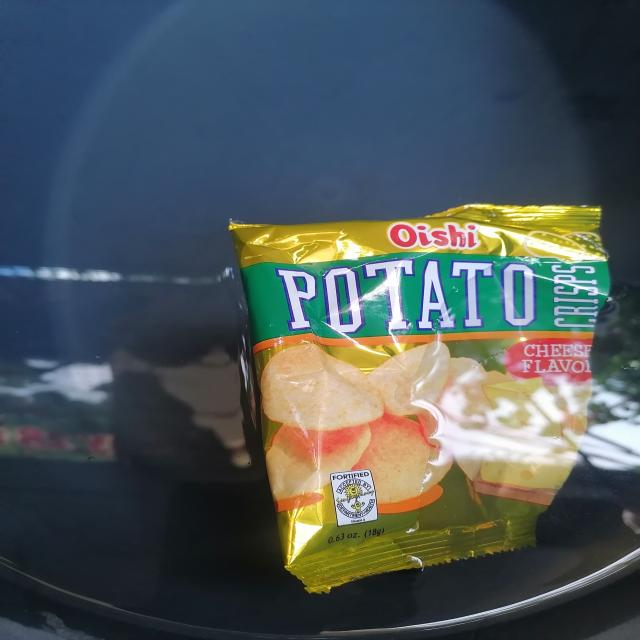Plastic Wrapper: (229, 204, 610, 590)
